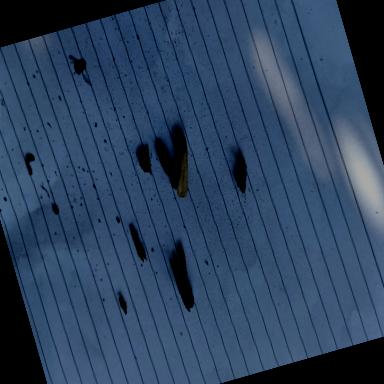abw: (156, 126, 204, 204)
pbw: (126, 219, 152, 270)
